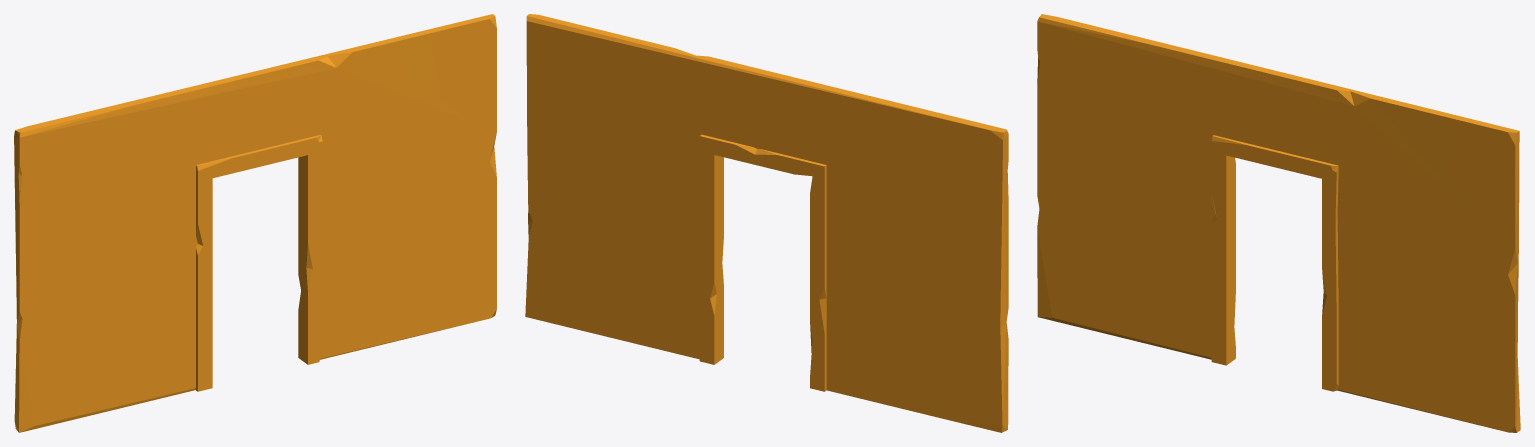
The model's file is SM_Buildings_WallDoor_5x3_01P.fbx.
3 views of the same model, side by side, from view 1: azimuth 30°, elevation 25°; view 2: azimuth 150°, elevation 25°; view 3: azimuth 330°, elevation 25° (orthographic).
Visible parts, largest first — view 1: SM_Buildings_WallDoor_5x3_01P; view 2: SM_Buildings_WallDoor_5x3_01P; view 3: SM_Buildings_WallDoor_5x3_01P.
Part boxes in pixels (x1,y1,x2,y2): SM_Buildings_WallDoor_5x3_01P: [14, 14, 496, 432]; SM_Buildings_WallDoor_5x3_01P: [525, 14, 1008, 432]; SM_Buildings_WallDoor_5x3_01P: [1037, 14, 1520, 432].
Size of the model in its own units: 500 by 300 by 17.29.
